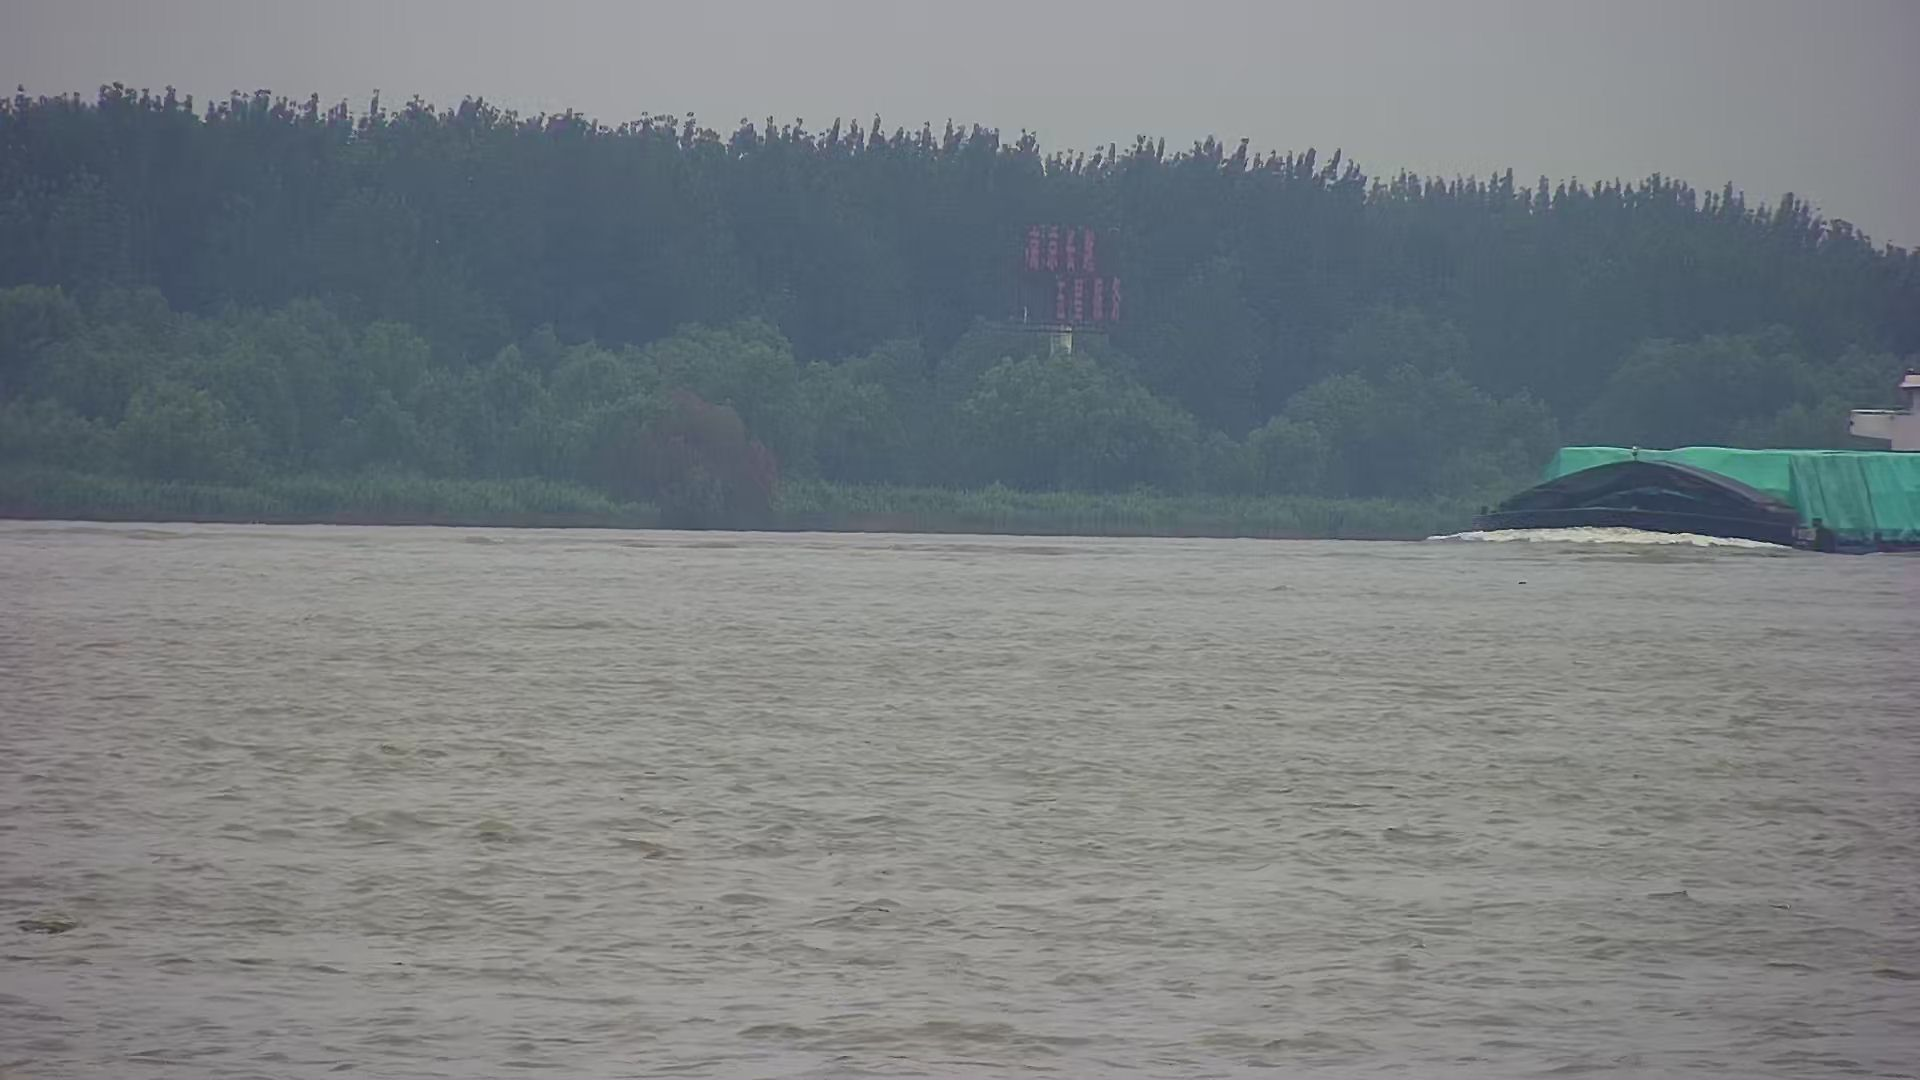ship: (1433, 347, 1920, 560)
